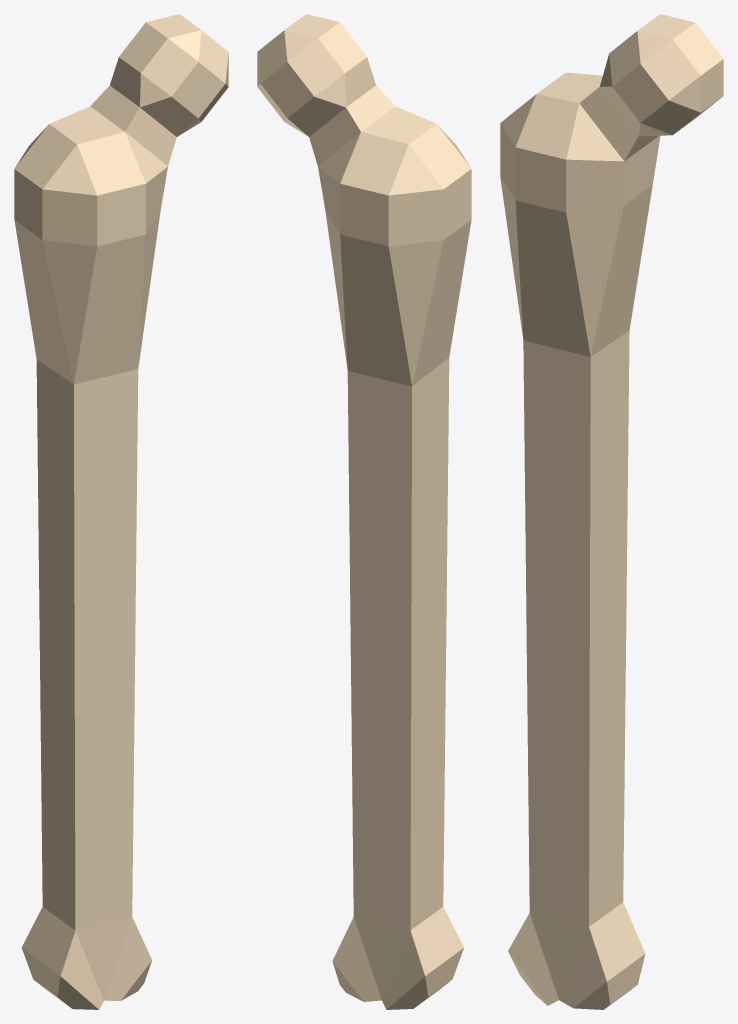
File: Femur.fbx
3 views of the same model, side by side, from view 1: azimuth 30°, elevation 25°; view 2: azimuth 150°, elevation 25°; view 3: azimuth 330°, elevation 25° (orthographic). The views are drawn at different scales.
Visible parts, largest first — view 1: Femur; view 2: Femur; view 3: Femur.
Part boxes in pixels (x1,y1,x2,y2): Femur: [14, 14, 228, 1009]; Femur: [257, 14, 471, 1009]; Femur: [500, 14, 723, 1009].
Size of the model in its own units: 239 by 1141 by 149.
